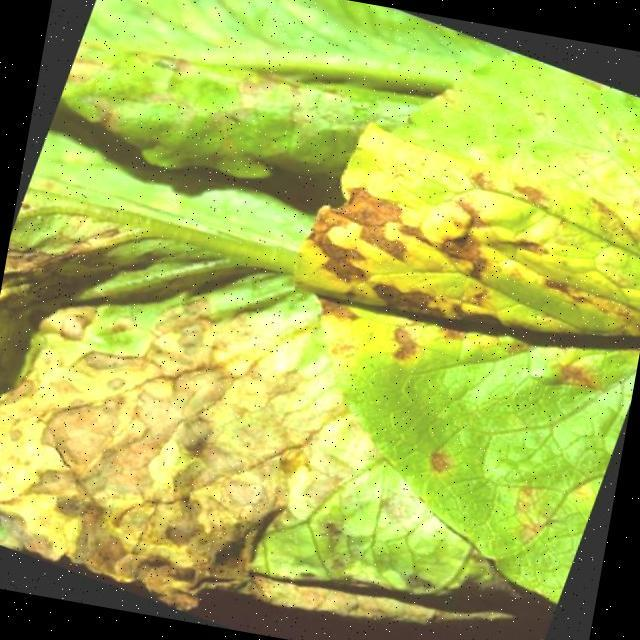Septoria_Blight: (262, 55, 640, 473), (0, 234, 282, 608)
